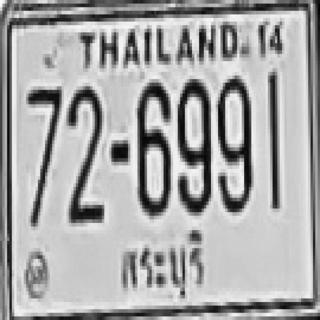N00: (216, 74, 251, 210)
N01: (267, 72, 278, 209)
N02: (66, 84, 102, 221)
N06: (135, 79, 168, 212)
N07: (26, 84, 62, 225)
N09: (176, 75, 211, 212), (216, 74, 251, 210)
